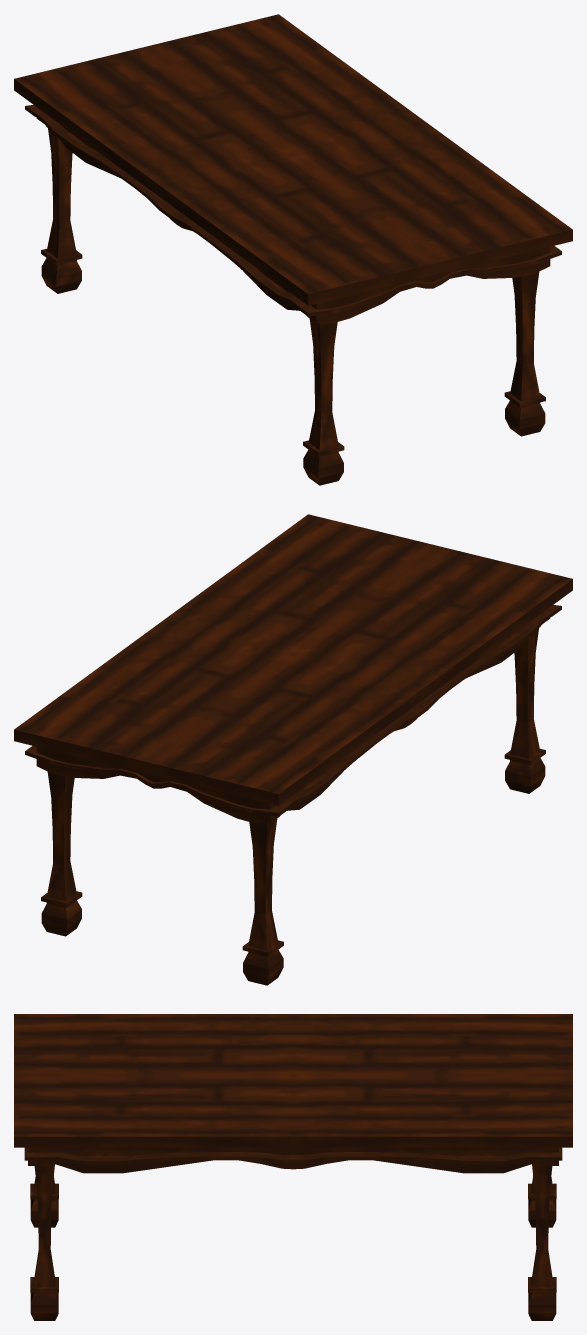
Rendered from E_DiningTable.fbx.
3 views of the same model, one above another, from view 1: azimuth 30°, elevation 25°; view 2: azimuth 150°, elevation 25°; view 3: azimuth 270°, elevation 25° (orthographic). The views are drawn at different scales.
Parts seen in each view (by area): view 1: Cube.111; view 2: Cube.111; view 3: Cube.111.
Part boxes in pixels (x1,y1,x2,y2): Cube.111: (14,14,572,485); Cube.111: (14,514,572,985); Cube.111: (14,1014,572,1320).
Bounding box in the file's own units: 244 × 180 × 470.
